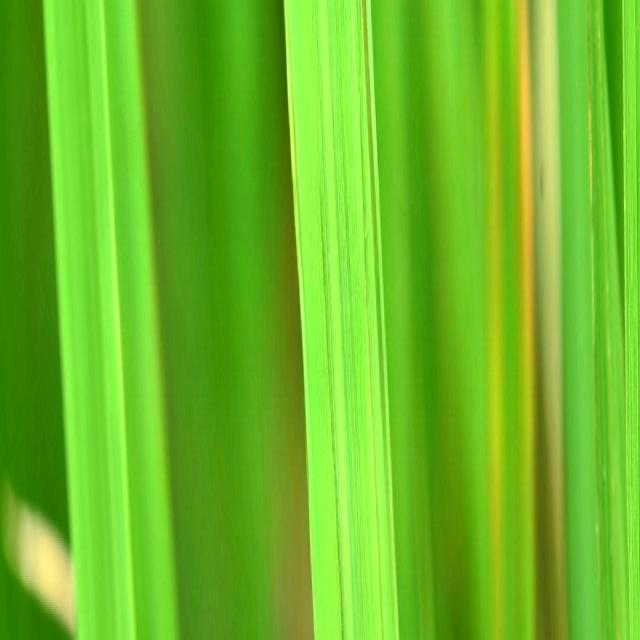BLS: (362, 0, 394, 640), (322, 240, 345, 640)
